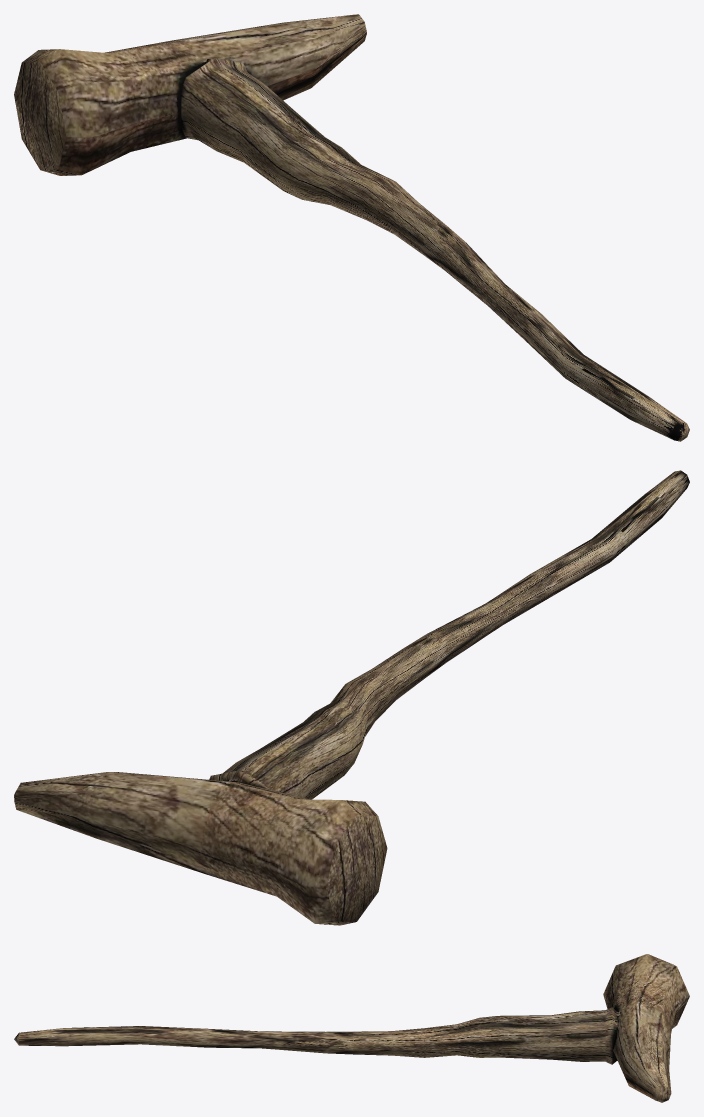
The model's file is wand_gotocot_catgot1.glb.
3 renders of one model, top to bottom at view 1: azimuth 30°, elevation 25°; view 2: azimuth 150°, elevation 25°; view 3: azimuth 270°, elevation 25°, orthographic. The views are drawn at different scales.
Bounding box in the file's own units: 0.6338 × 0.223 × 1.65.
Materials: 1 (1 with a texture image).
